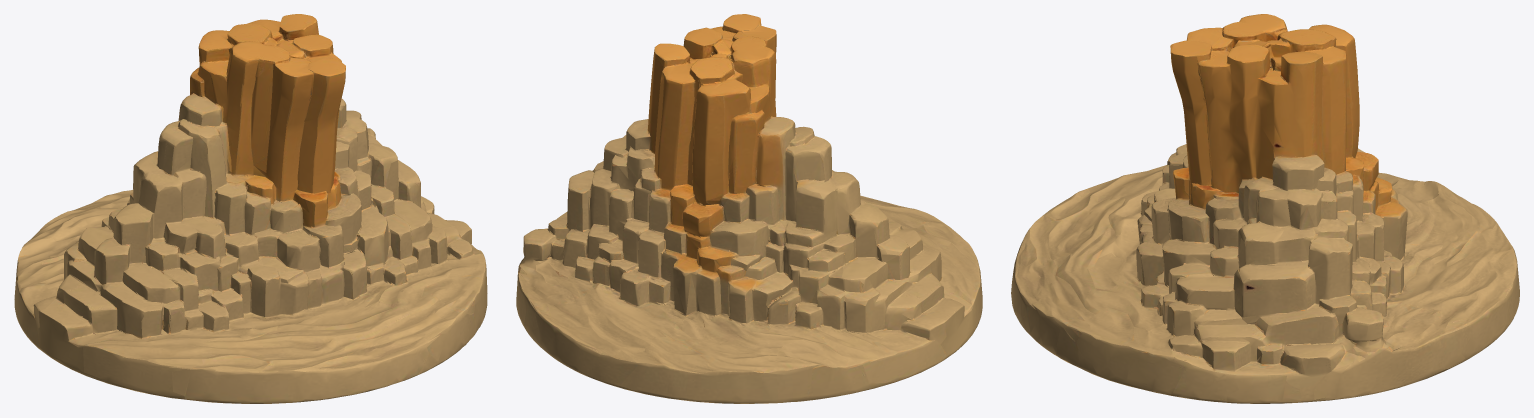
File: giants_causeway.glb
3 renders of one model, left to right at view 1: azimuth 30°, elevation 25°; view 2: azimuth 150°, elevation 25°; view 3: azimuth 270°, elevation 25°, orthographic. The views are drawn at different scales.
Size of the model in its own units: 1.89 by 1.14 by 1.9.
Materials: 1 (1 with a texture image).
